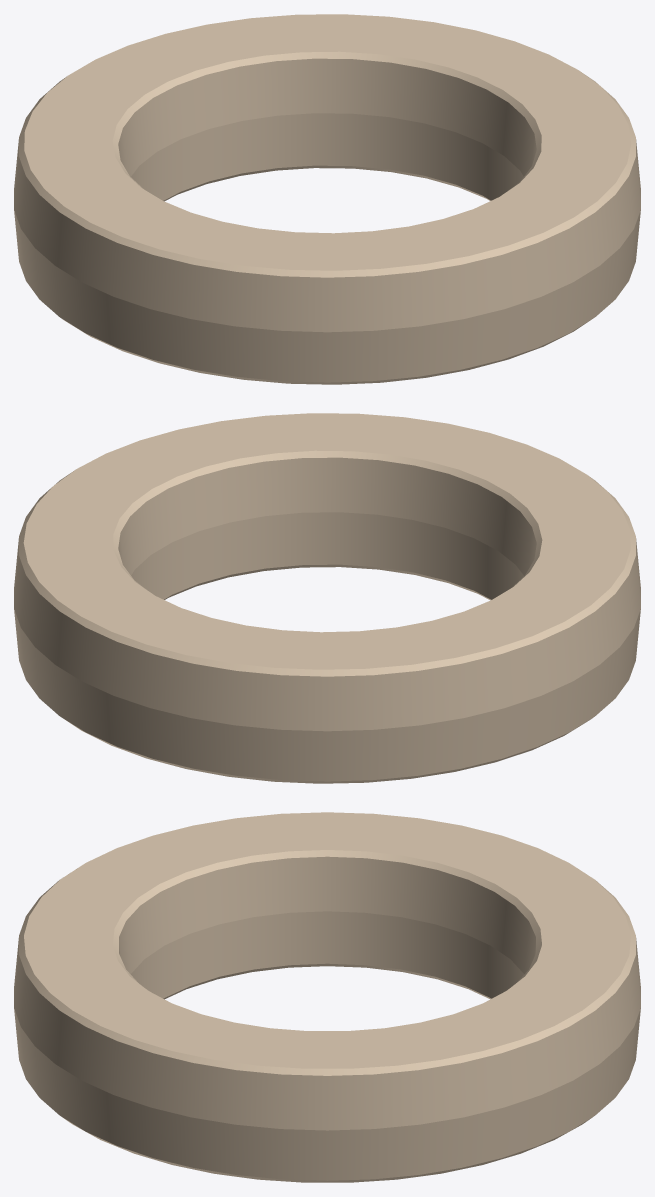
File: ring_white.glb
The picture shows the model from 3 angles, top to bottom: view 1: azimuth 30°, elevation 25°; view 2: azimuth 150°, elevation 25°; view 3: azimuth 270°, elevation 25°; orthographic projection.
Visible parts, largest first — view 1: Node1; view 2: Node1; view 3: Node1.
Part boxes in pixels (x1,y1,x2,y2): Node1: (14, 14, 640, 384); Node1: (14, 413, 640, 783); Node1: (14, 812, 640, 1182).
Bounding box in the file's own units: 1.25 × 0.25 × 1.25.
